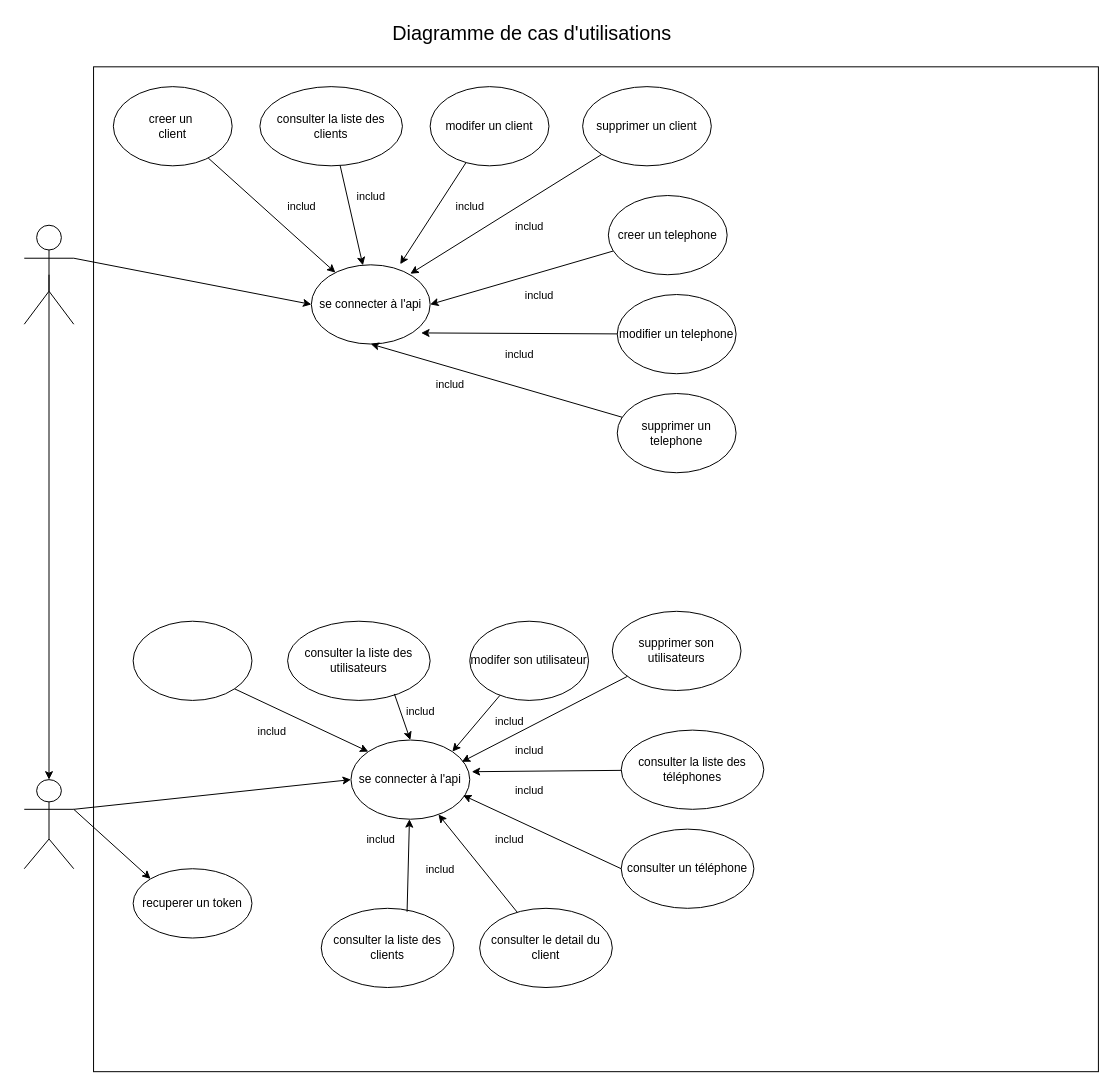
The diagram is 1116 pixels wide and 1089 high, and some of its shapes have lost their labels. The shapes that lost their labels are listed below. From the top down, each one's box as (x1, y1, x2, y2) in pixels, then its label:
(23, 224, 74, 324): admin client
(132, 620, 252, 700): creer un utilisateur
(23, 779, 74, 869): client
